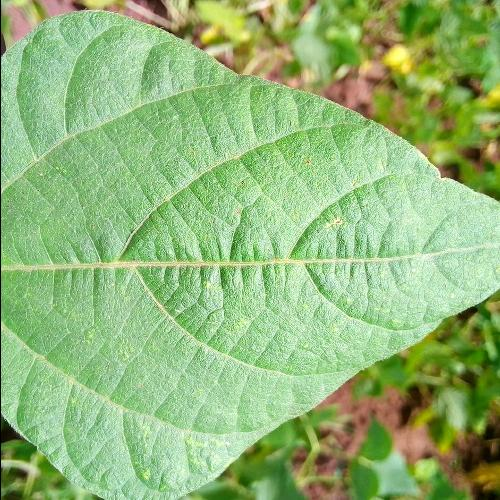sehat: (21, 117, 326, 396)
